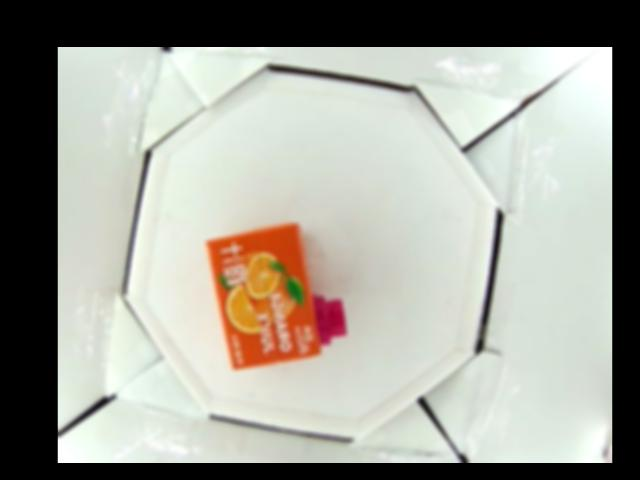Bottle: (205, 221, 346, 372)
